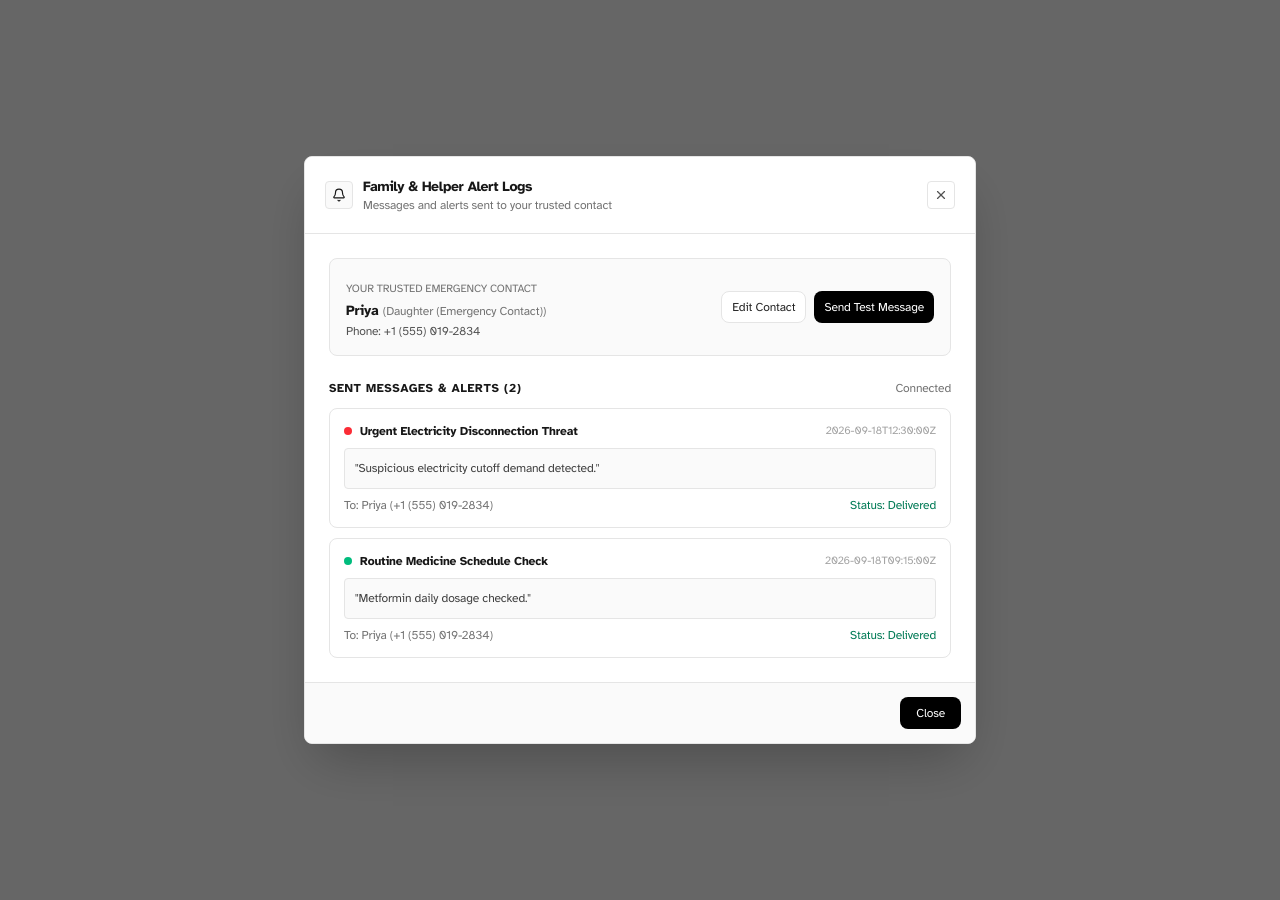
Test: Sahayak AI - Caregiver Audit Log & Safeguard Configuration › displays caregiver contact configuration and toggle edit form
Check: the text "Your Trusted Emergency Contact" is shown, box [346,282,537,295]
Check: the text "Priya (Daughter (Emergency Contact))" is shown, box [346,301,546,321]
What coordinates should you click on to do the following:
click the button "Edit Contact"
I would click on:
 (764, 307)
Its box is [721,291,806,323].
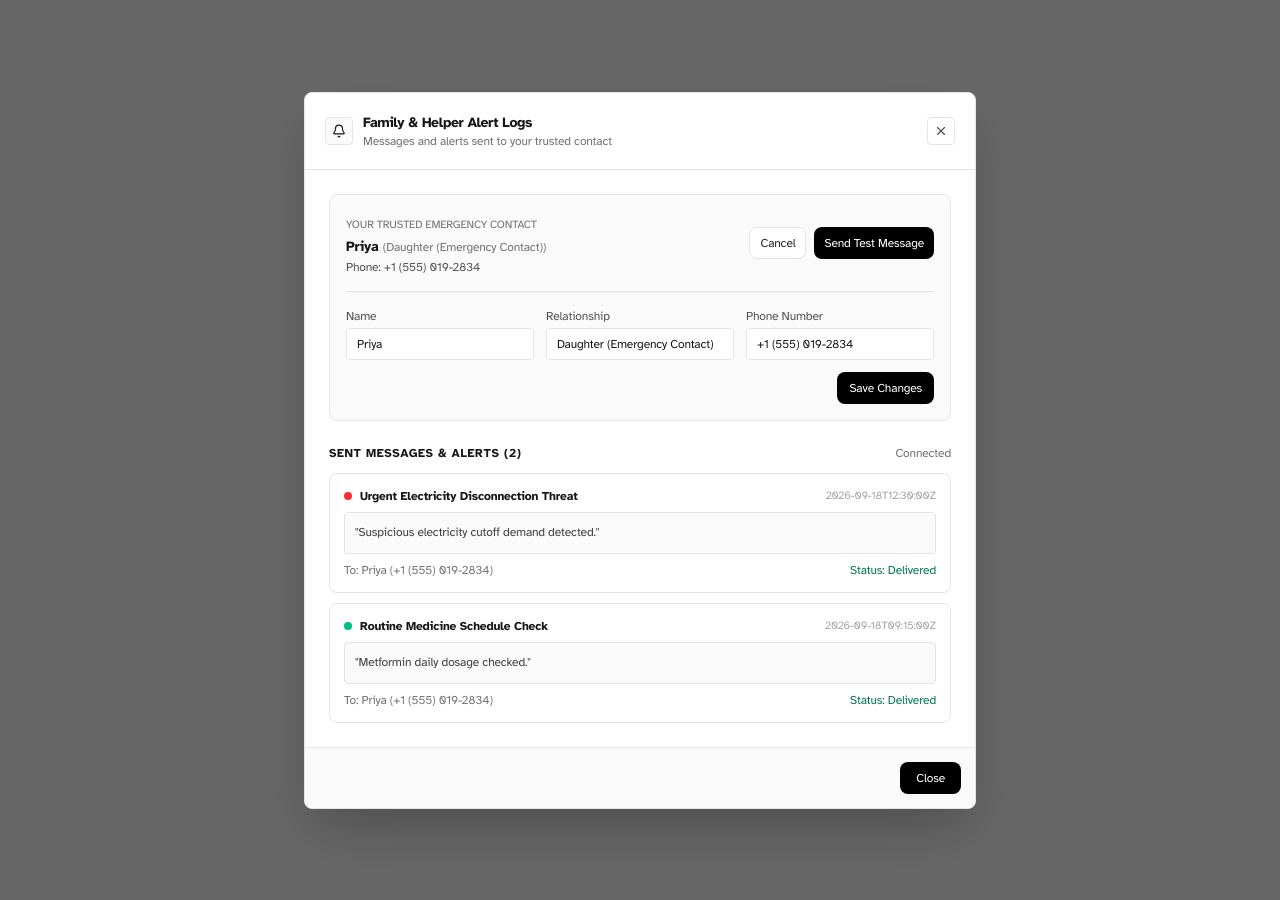
Check: the button "Cancel" is shown, box [749,226,806,258]
